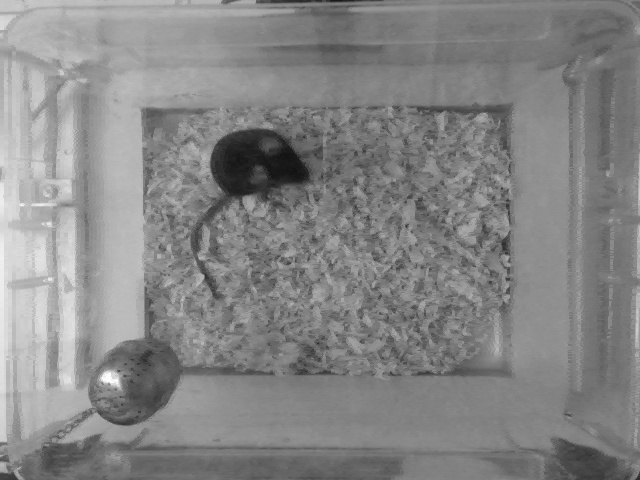mice: (192, 122, 309, 296)
